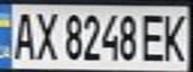2: (81, 10, 103, 62)
4: (100, 10, 121, 62)
8: (60, 9, 84, 62), (118, 11, 142, 62)
A: (9, 8, 39, 61)
E: (139, 10, 169, 63)
K: (157, 9, 193, 63)
X: (30, 8, 60, 62)
